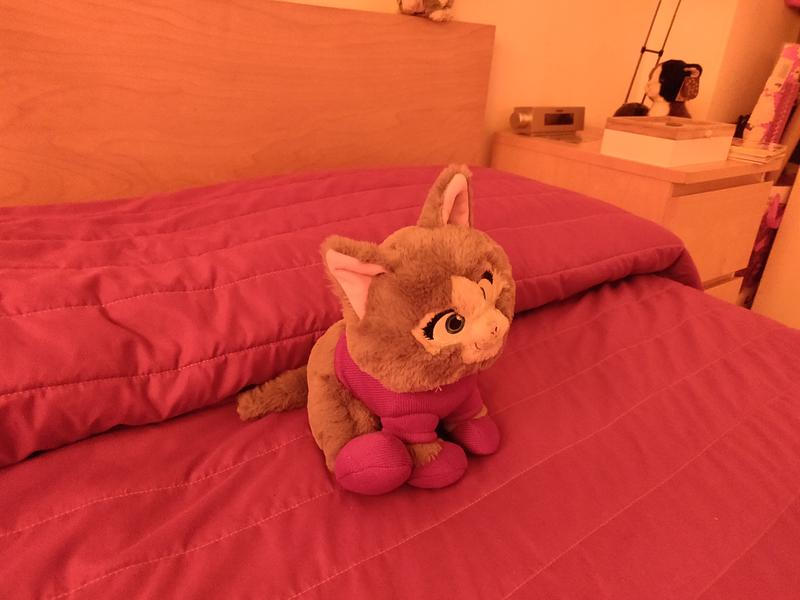kitten: (227, 145, 521, 495)
